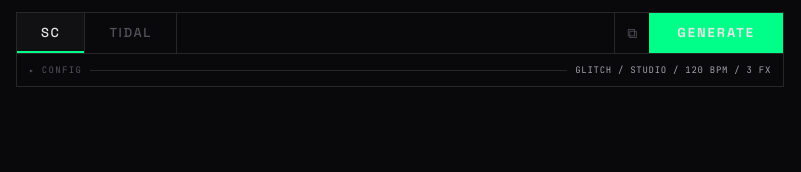
Scenario: CodegenPanel › displays error on API failure
Click the button "GENERATE": (716, 33) [649, 13, 783, 53]
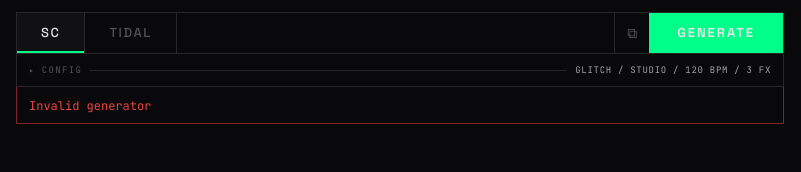
Expected: the text "Invalid generator" is shown, [29, 98, 151, 114]
